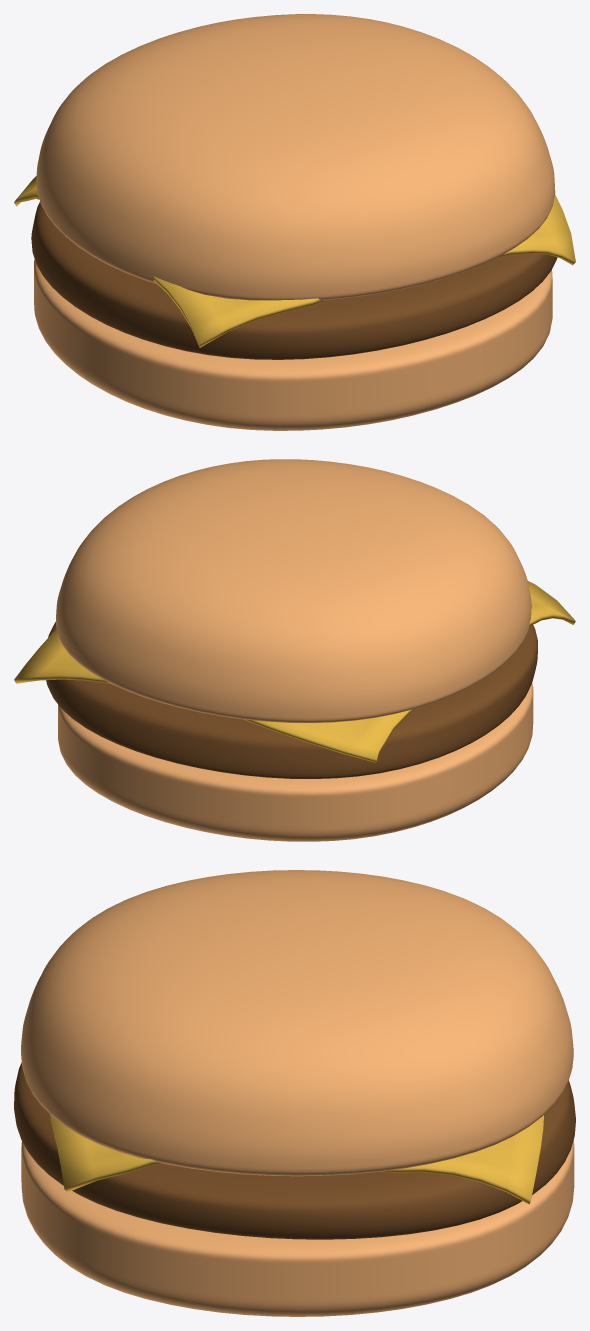
Rendered from hamburger.glb.
3 renders of one model, top to bottom at view 1: azimuth 30°, elevation 25°; view 2: azimuth 150°, elevation 25°; view 3: azimuth 270°, elevation 25°, orthographic. The views are drawn at different scales.
Visible parts, largest first — view 1: Cube.006, Cube.001, Cube, Plane; view 2: Cube.006, Cube.001, Cube, Plane; view 3: Cube.006, Cube.001, Cube, Plane.
Part boxes in pixels (box(x1,y1,x2,y2)): Cube.006: box(36, 14, 555, 300); Cube.001: box(34, 259, 552, 430); Cube: box(31, 201, 557, 359); Plane: box(14, 176, 575, 347); Cube.006: box(56, 459, 531, 722); Cube.001: box(58, 683, 533, 841); Cube: box(46, 622, 537, 778); Plane: box(14, 581, 575, 762); Cube.006: box(21, 870, 573, 1176); Cube.001: box(21, 1140, 574, 1316); Cube: box(14, 1063, 575, 1239); Plane: box(50, 1114, 544, 1204).
Size of the model in its own units: 9.5 by 5.44 by 9.32.
